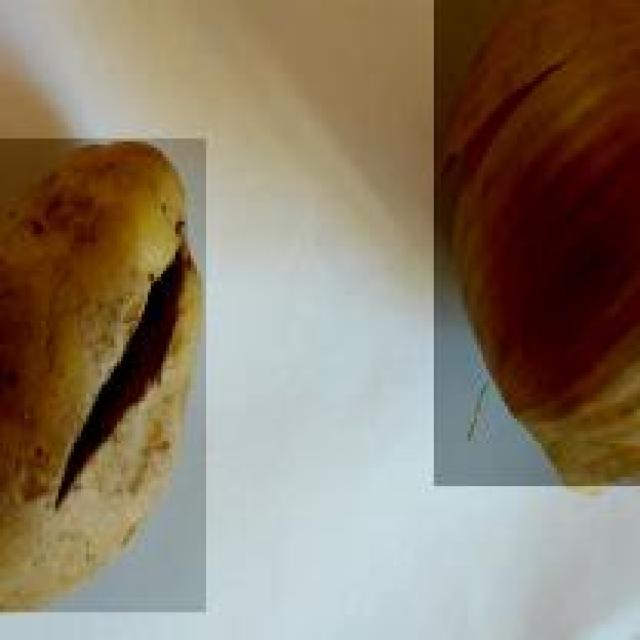onion: (431, 0, 640, 489)
potato: (0, 138, 203, 616)
